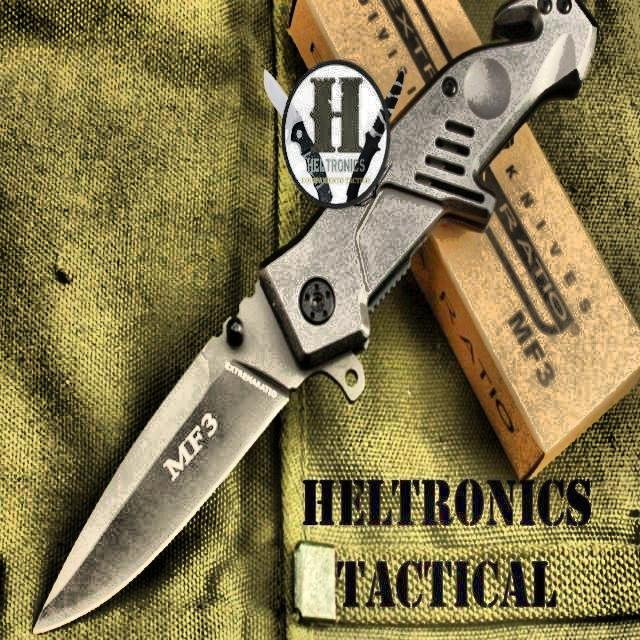knife: (33, 3, 598, 634), (263, 74, 332, 208), (349, 68, 404, 205)
